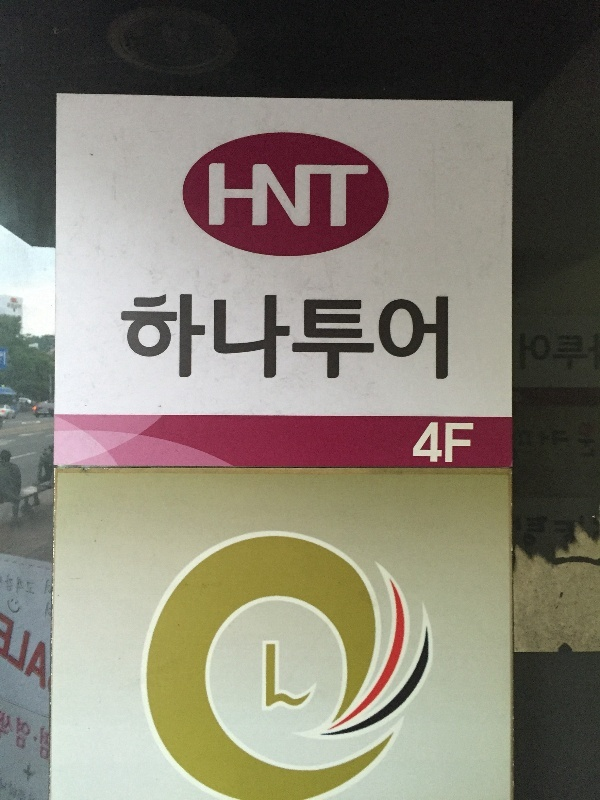text: (129, 288, 144, 389), (145, 288, 160, 389), (161, 288, 176, 389), (177, 288, 192, 389), (193, 288, 208, 389), (209, 288, 224, 389), (225, 288, 240, 389), (241, 288, 256, 389), (257, 288, 272, 389), (273, 288, 288, 389), (289, 288, 304, 389), (305, 288, 320, 389), (321, 288, 336, 389), (337, 288, 352, 389), (353, 288, 368, 389), (369, 288, 384, 389), (385, 288, 400, 389), (401, 288, 416, 389), (417, 288, 432, 389), (433, 288, 448, 389), (273, 641, 288, 726), (289, 641, 304, 726), (305, 641, 320, 726), (209, 157, 224, 241), (225, 157, 240, 241), (241, 157, 256, 241), (257, 157, 272, 241), (273, 157, 288, 241), (289, 157, 304, 241), (305, 157, 320, 241), (321, 157, 336, 241), (337, 157, 352, 241), (353, 157, 368, 241), (1, 612, 16, 694), (17, 612, 32, 694), (33, 612, 47, 694), (117, 288, 128, 389), (321, 641, 332, 726), (433, 417, 448, 470), (449, 417, 464, 470), (529, 511, 544, 564), (545, 511, 560, 564), (561, 511, 576, 564), (577, 511, 592, 564), (1, 710, 16, 763), (17, 710, 32, 763), (33, 710, 48, 763), (263, 641, 272, 726), (529, 416, 544, 464), (545, 416, 560, 464), (561, 416, 576, 464), (577, 416, 592, 464), (465, 417, 478, 470), (515, 511, 528, 564), (515, 416, 528, 464), (529, 332, 544, 371), (545, 332, 560, 371), (561, 332, 576, 371), (577, 332, 592, 371), (593, 511, 600, 564), (17, 575, 32, 598), (593, 416, 600, 464), (520, 332, 528, 371), (1, 349, 16, 369), (4, 575, 16, 598), (593, 332, 600, 371), (427, 417, 432, 470), (369, 157, 372, 241), (1, 574, 16, 589), (44, 578, 48, 622), (206, 157, 208, 241), (49, 578, 52, 622), (449, 288, 450, 389), (7, 302, 16, 310), (49, 710, 50, 763), (10, 296, 16, 304), (17, 302, 23, 310), (33, 575, 35, 598), (17, 296, 19, 304)
